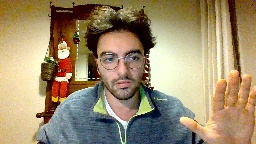Mano_aperta: (173, 65, 256, 144)
